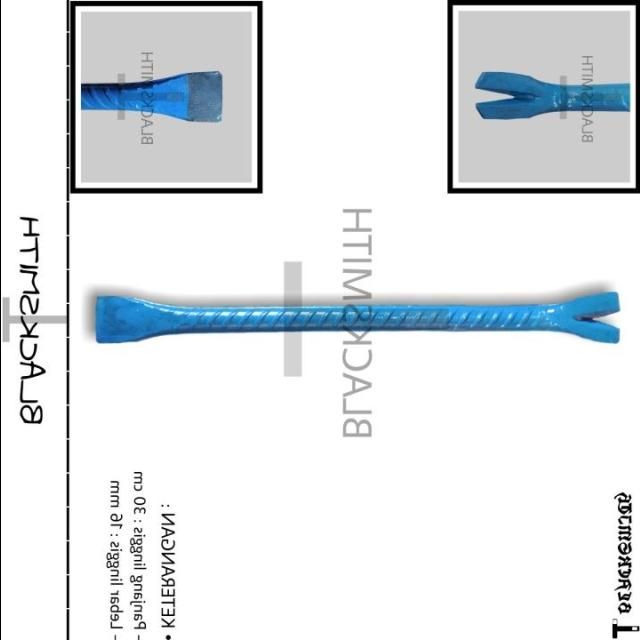Linggis: (96, 296, 626, 345)
